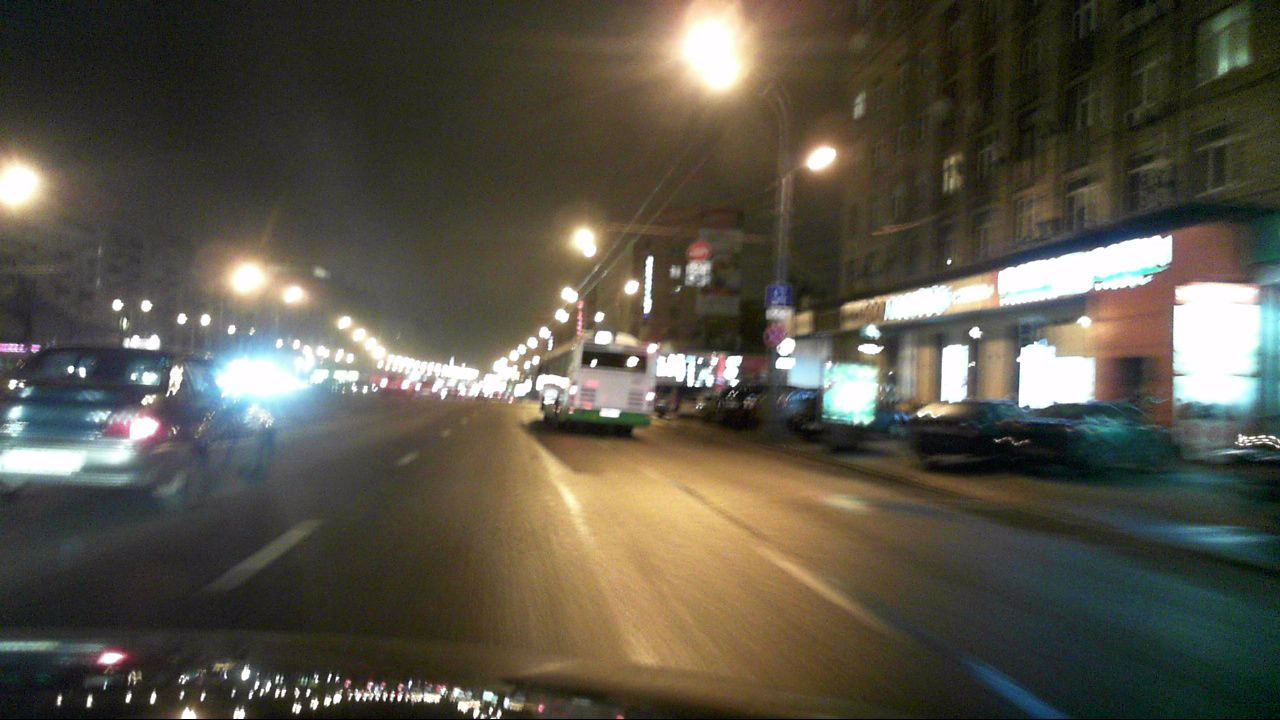No Parking: (766, 322, 790, 345)
